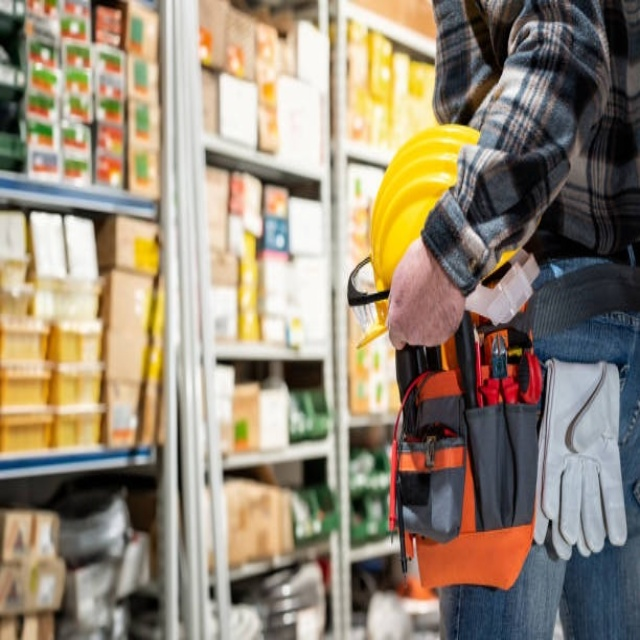Sin_guantes: (384, 234, 470, 353)
